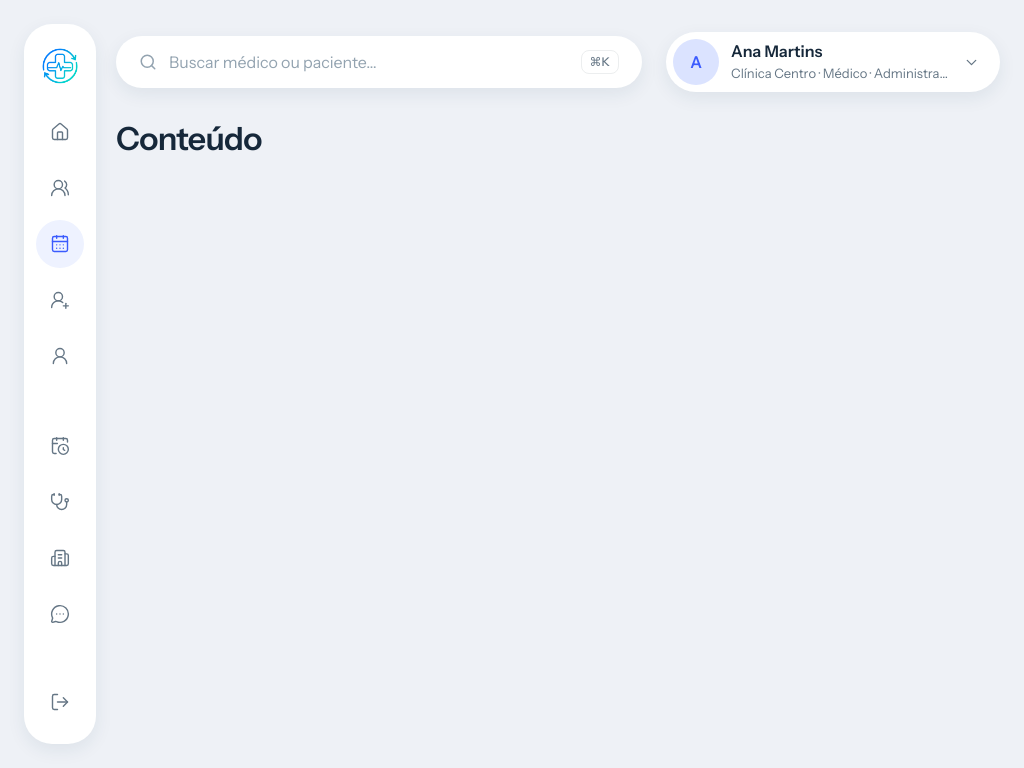
Test: mantém o contexto atual e explica quando o vínculo de destino está indisponível
What coordinates should you click on to do the following:
click the button "A Ana Martins Clínica Centro · Médico · Administração"
I would click on:
 (833, 62)
Its box is [666,32,1000,92].
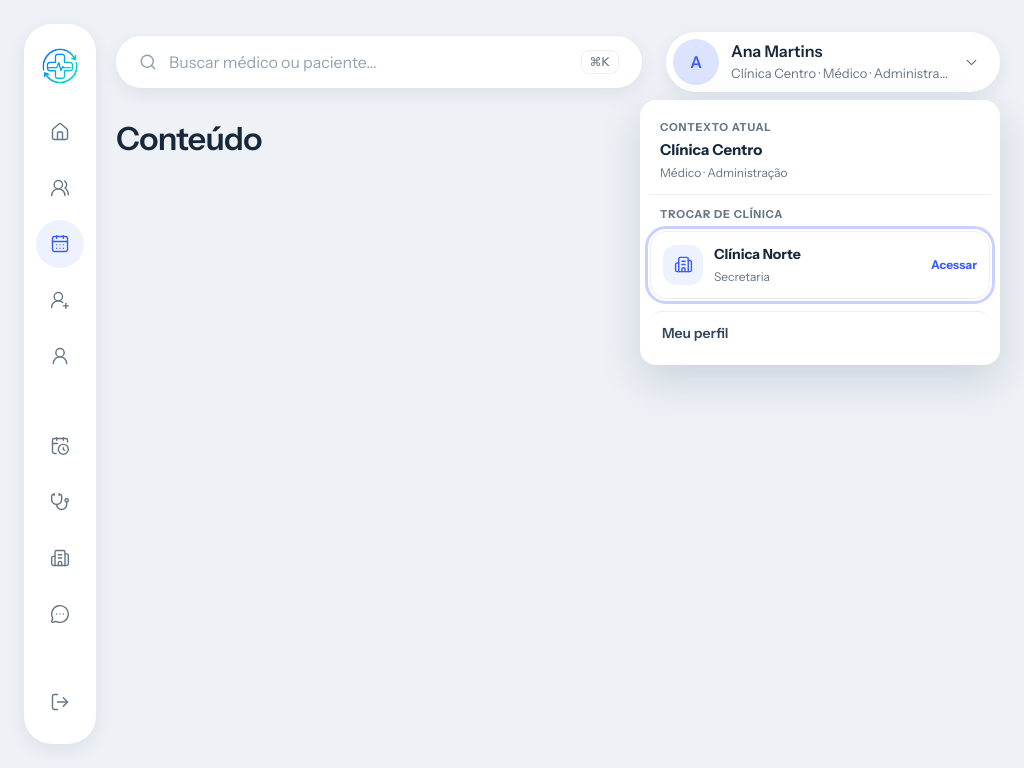
What coordinates should you click on to do the following:
click the button with aria-label "Clínica Norte, Secretaria"
I would click on:
 (683, 264)
Its box is [650,230,990,298].
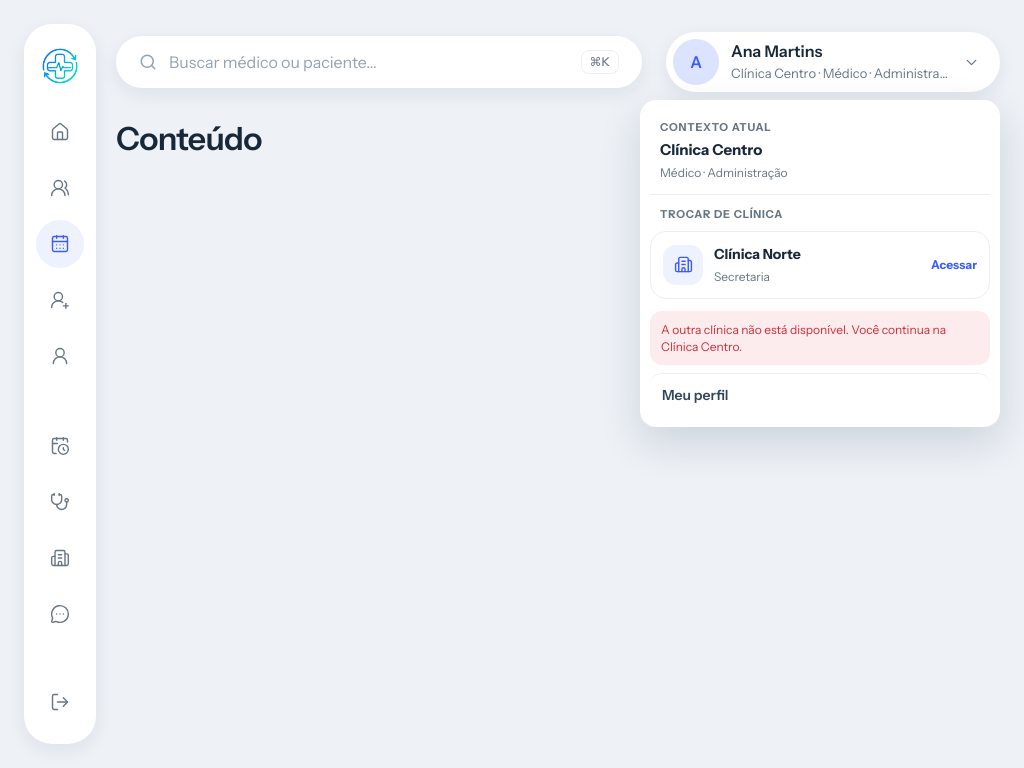
Expected: the text "Clínica Centro" is shown, [660,140,762,158]
Expected: the message reads "A outra clínica não está disponível. Você continua na Clínica Centro.", [661,322,946,354]
